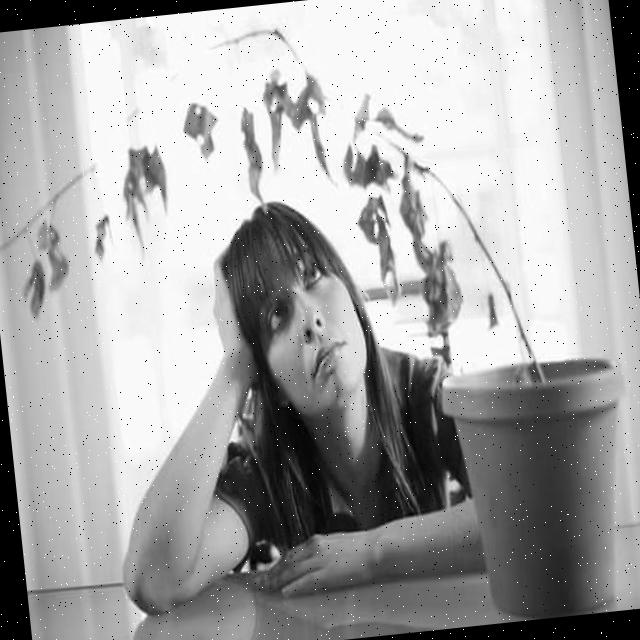Sadness: (251, 240, 365, 412)
